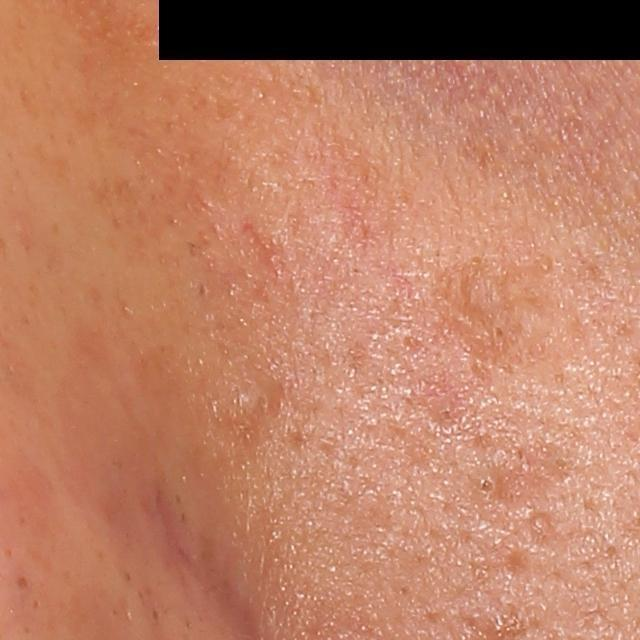atrophic_scar: (429, 262, 561, 388), (505, 546, 536, 581)
comedo: (239, 373, 285, 422), (471, 463, 502, 499), (493, 322, 509, 341), (15, 574, 31, 590)
